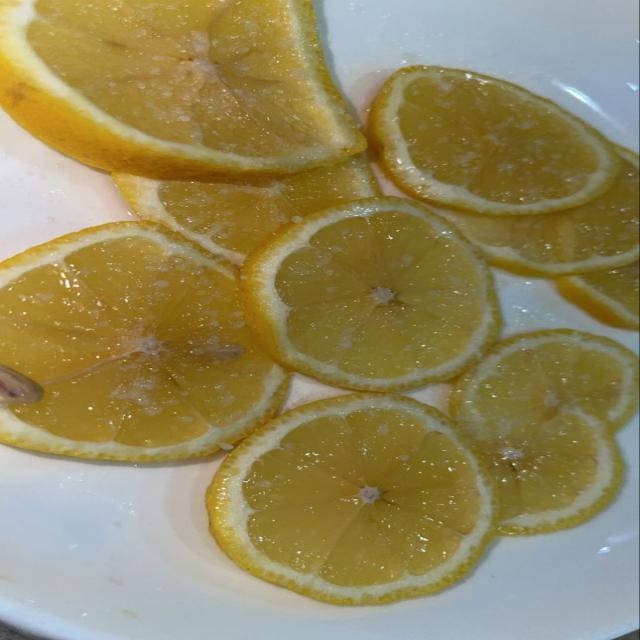lemon: (0, 223, 287, 460), (0, 0, 366, 179), (208, 395, 494, 604), (243, 198, 500, 391), (451, 330, 638, 534), (371, 67, 619, 215), (114, 157, 380, 263), (442, 149, 639, 277), (557, 262, 639, 330)
